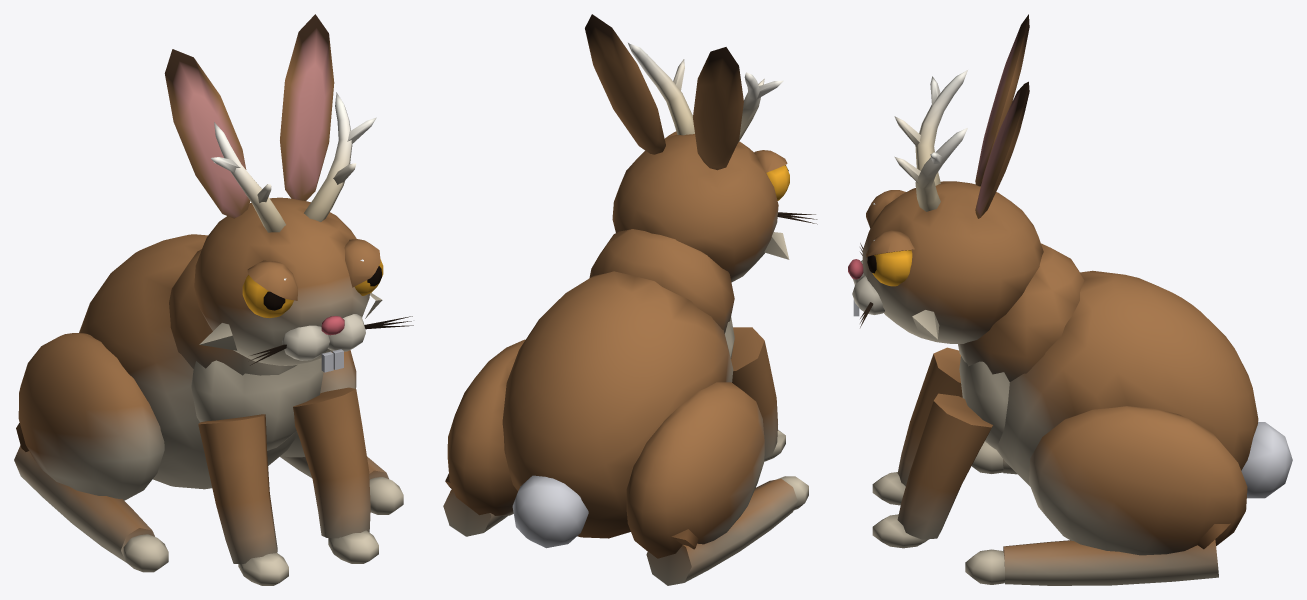
The model's file is hopper_mountain.glb.
3 renders of one model, left to right at view 1: azimuth 30°, elevation 25°; view 2: azimuth 150°, elevation 25°; view 3: azimuth 270°, elevation 25°, orthographic. The views are drawn at different scales.
Visible parts, largest first — view 1: body, leg_R, leg_L; view 2: body, leg_R, leg_L; view 3: body, leg_L, leg_R.
Part boxes in pixels (x1=…): body: x1=79, y1=14, x2=413, y2=585; leg_R: x1=14, y1=333, x2=168, y2=572; leg_L: x1=280, y1=350, x2=403, y2=514; body: x1=502, y1=14, x2=817, y2=548; leg_R: x1=626, y1=382, x2=808, y2=585; leg_L: x1=443, y1=339, x2=525, y2=536; body: x1=848, y1=14, x2=1292, y2=548; leg_L: x1=965, y1=406, x2=1247, y2=585; leg_R: x1=971, y1=441, x2=1017, y2=474.
Size of the model in its own units: 0.6087 by 1 by 0.843.
